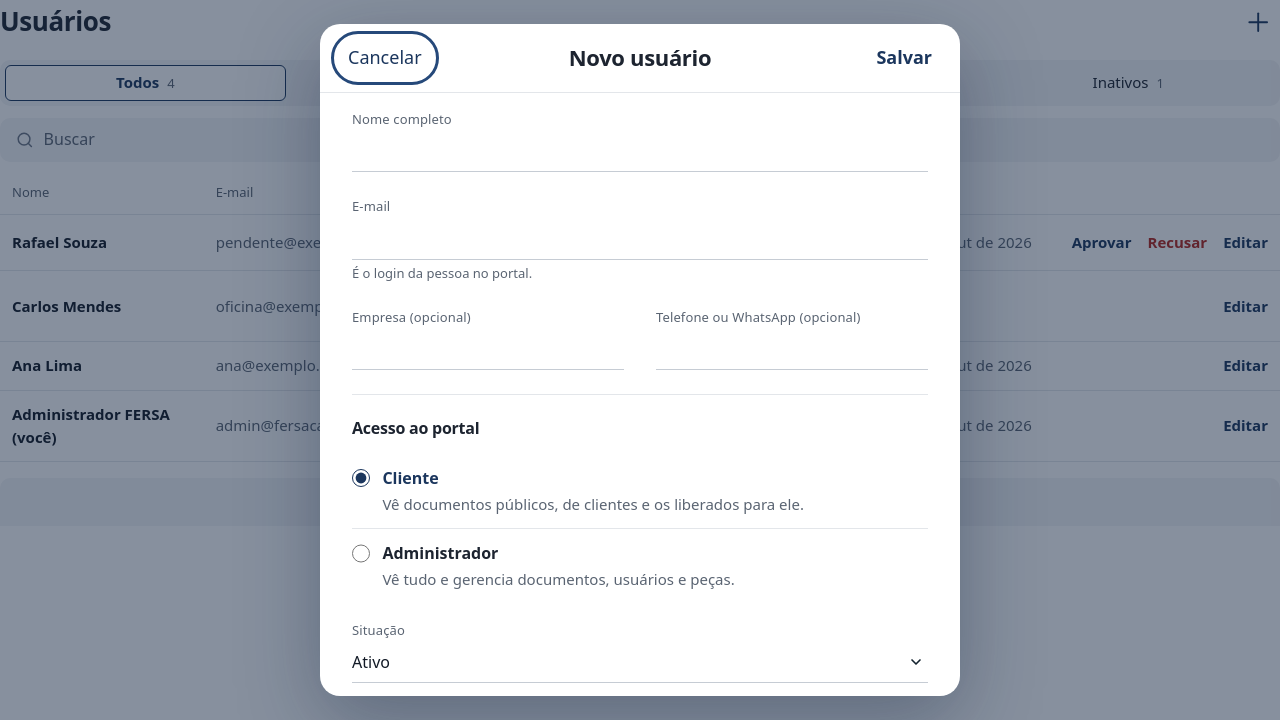
Test case: Cadastro de usuário › cria com senha gerada pelo botão "Gerar senha"
Expected: the button "Salvar" is shown, [864,36,944,80]
In the field labelled "Nome completo": (640, 152) [352,132,928,172], type "Marina Costa"
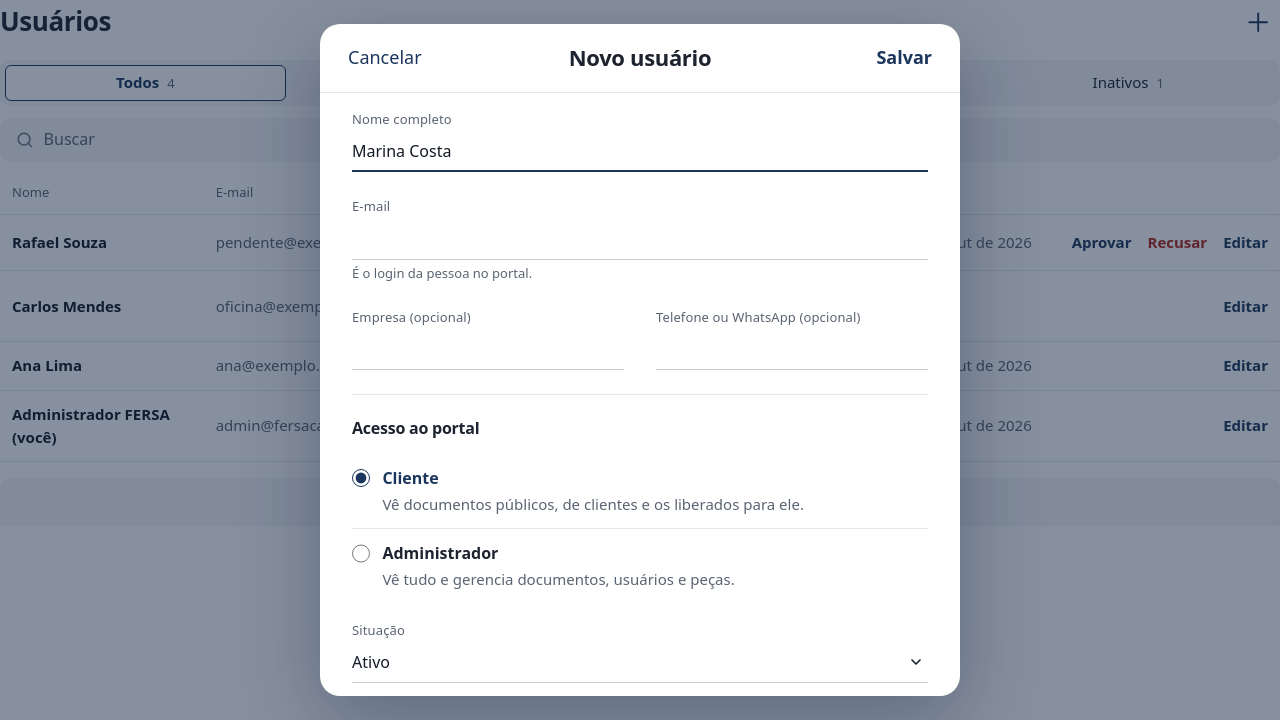
In the field labelled "E-mail": (640, 240) [352,220,928,260], type "marina@exemplo.com"
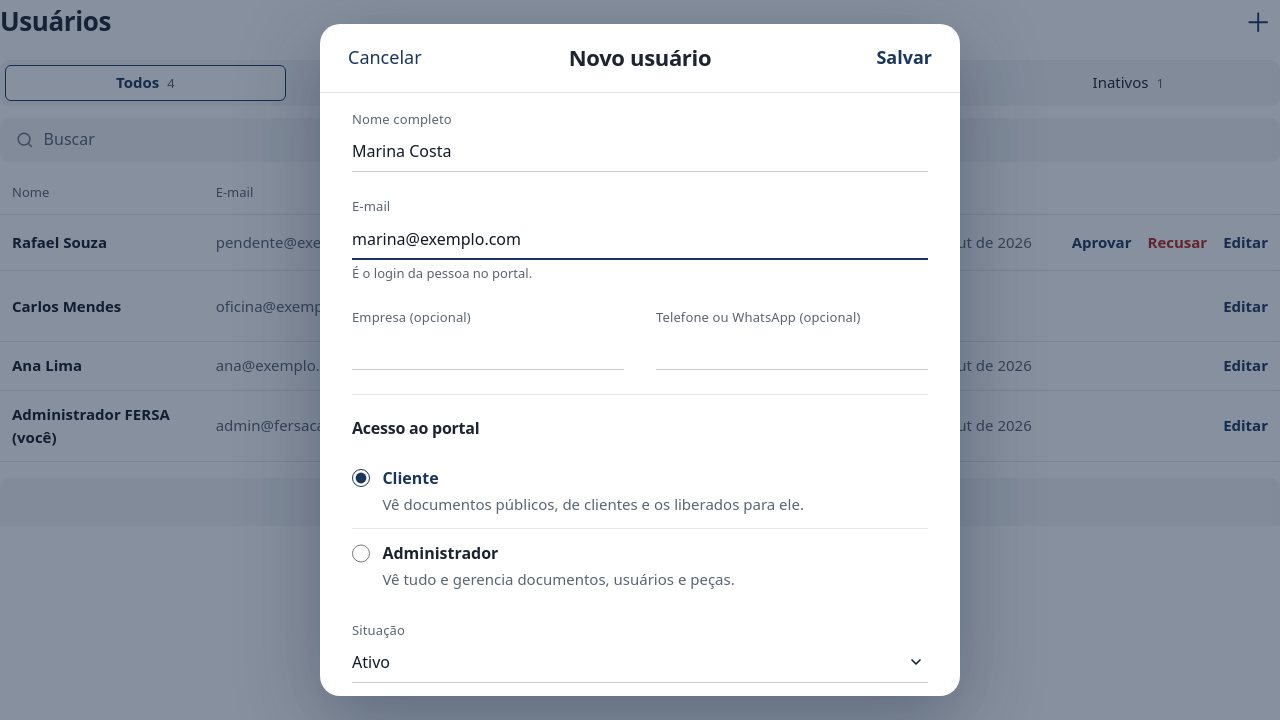
In the field labelled "Empresa (opcional)": (488, 350) [352,330,624,370], type "Distribuidora Sul"
(page scrolled)
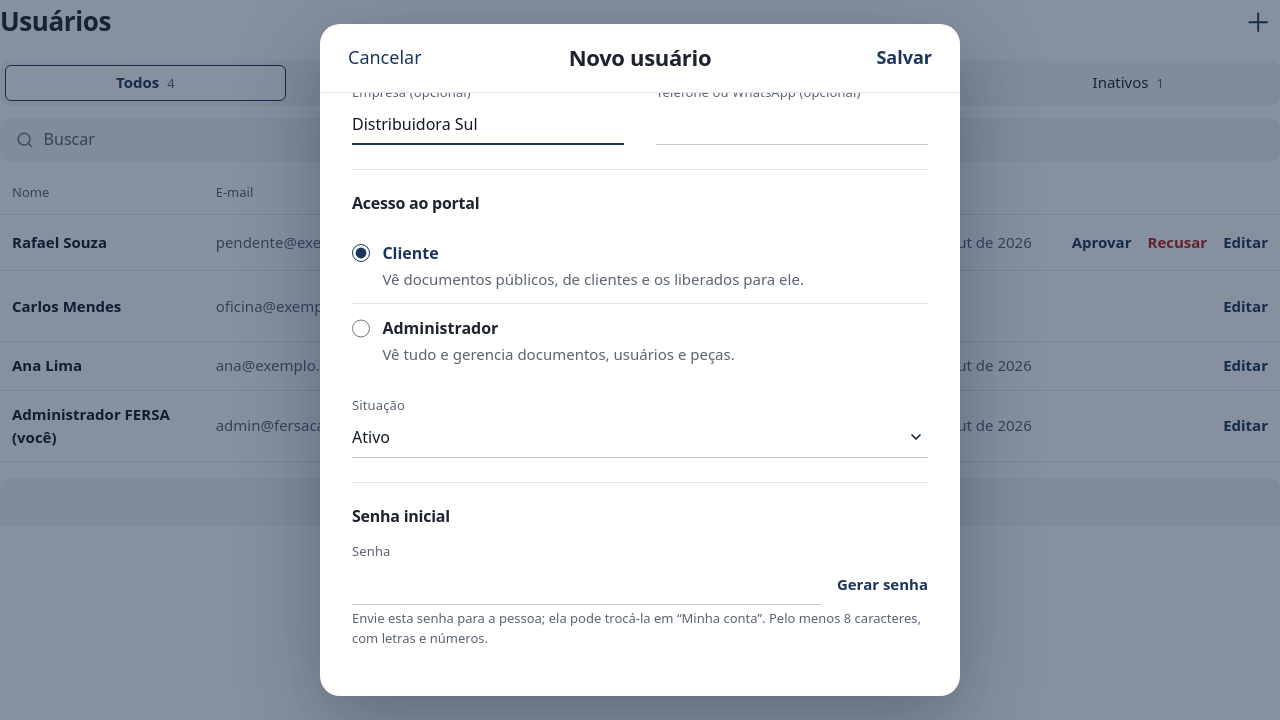
Click the button "Gerar senha": (882, 585) [837,569,928,600]
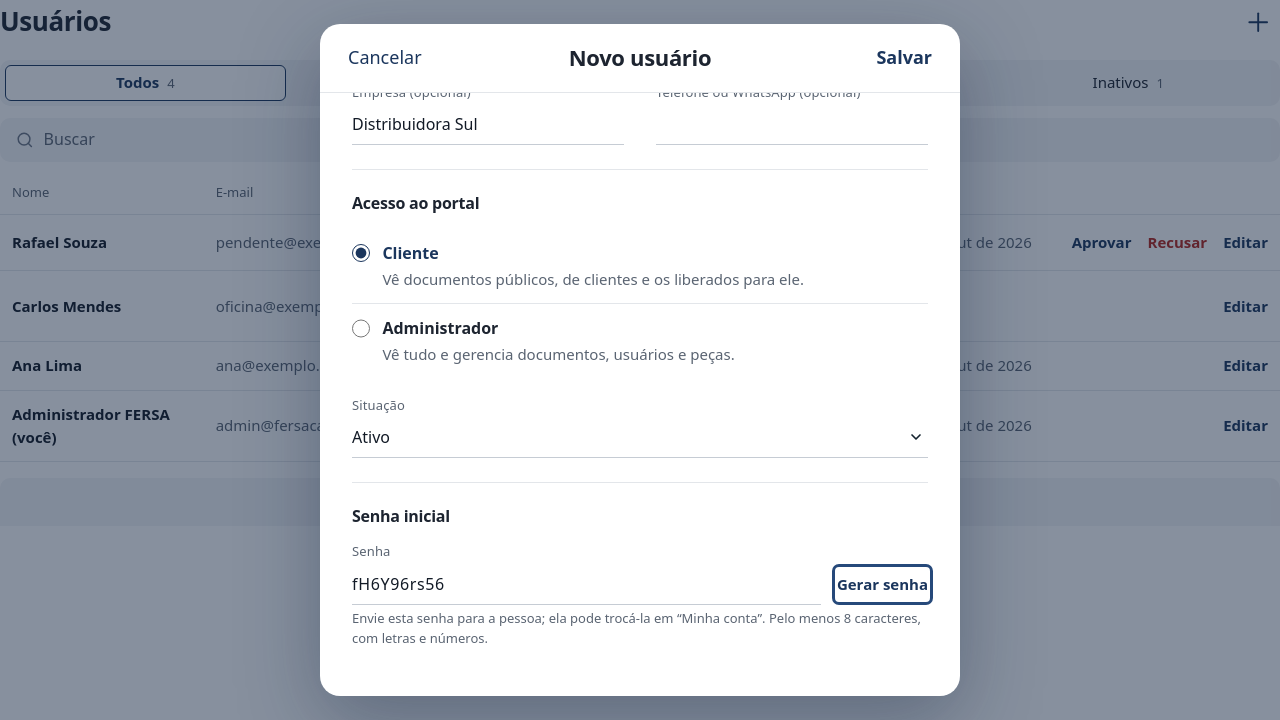
Click the button "Salvar": (904, 58) [864,36,944,80]
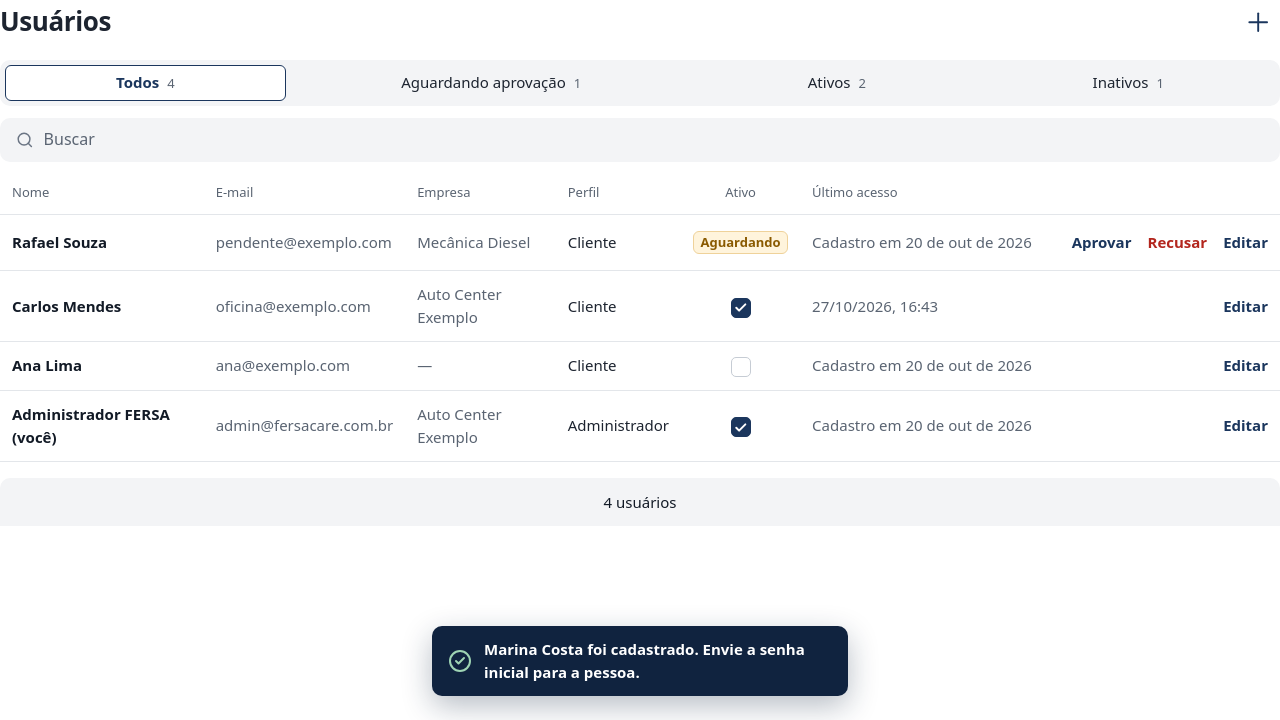
Now the text "Marina Costa foi cadastrado. Envie a senha inicial para a pessoa." is shown, box [484,638,832,684]
